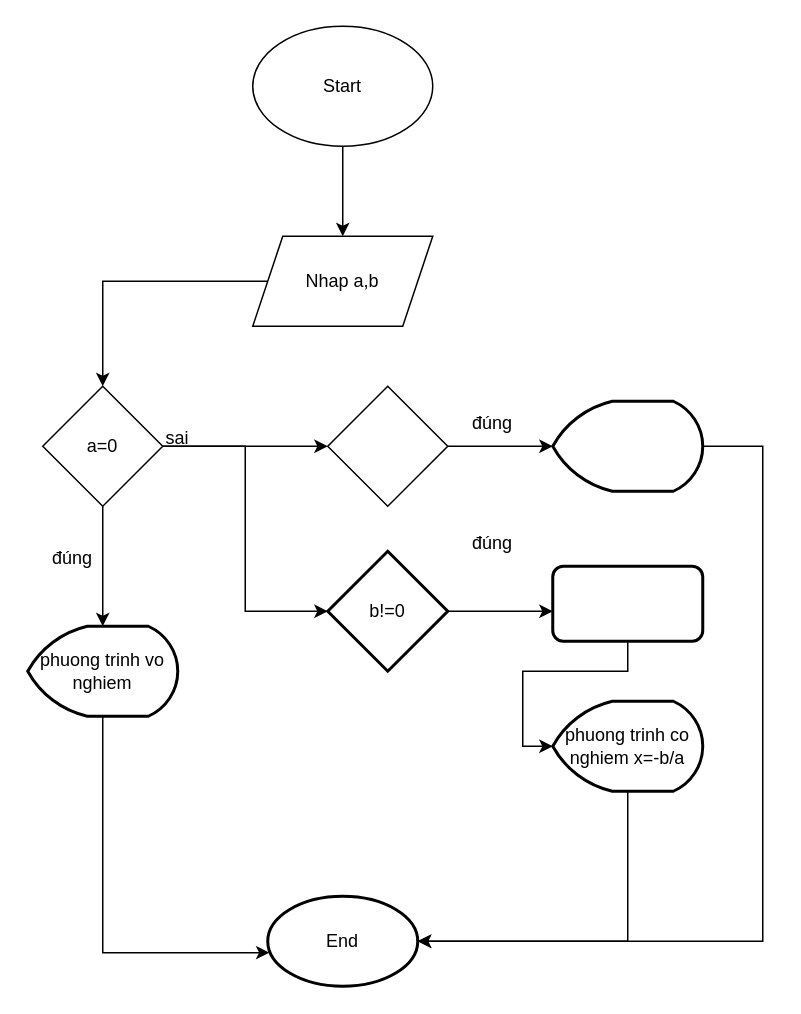
Image size: 801x1014. Some labels were removed from this diagram. The centre of each missing label's shape, as x and y in pixels:
"b=0" goes at (x=387, y=445).
"phuong trinh vo so nghiem" goes at (x=627, y=445).
"x = -b/a" goes at (x=627, y=603).
